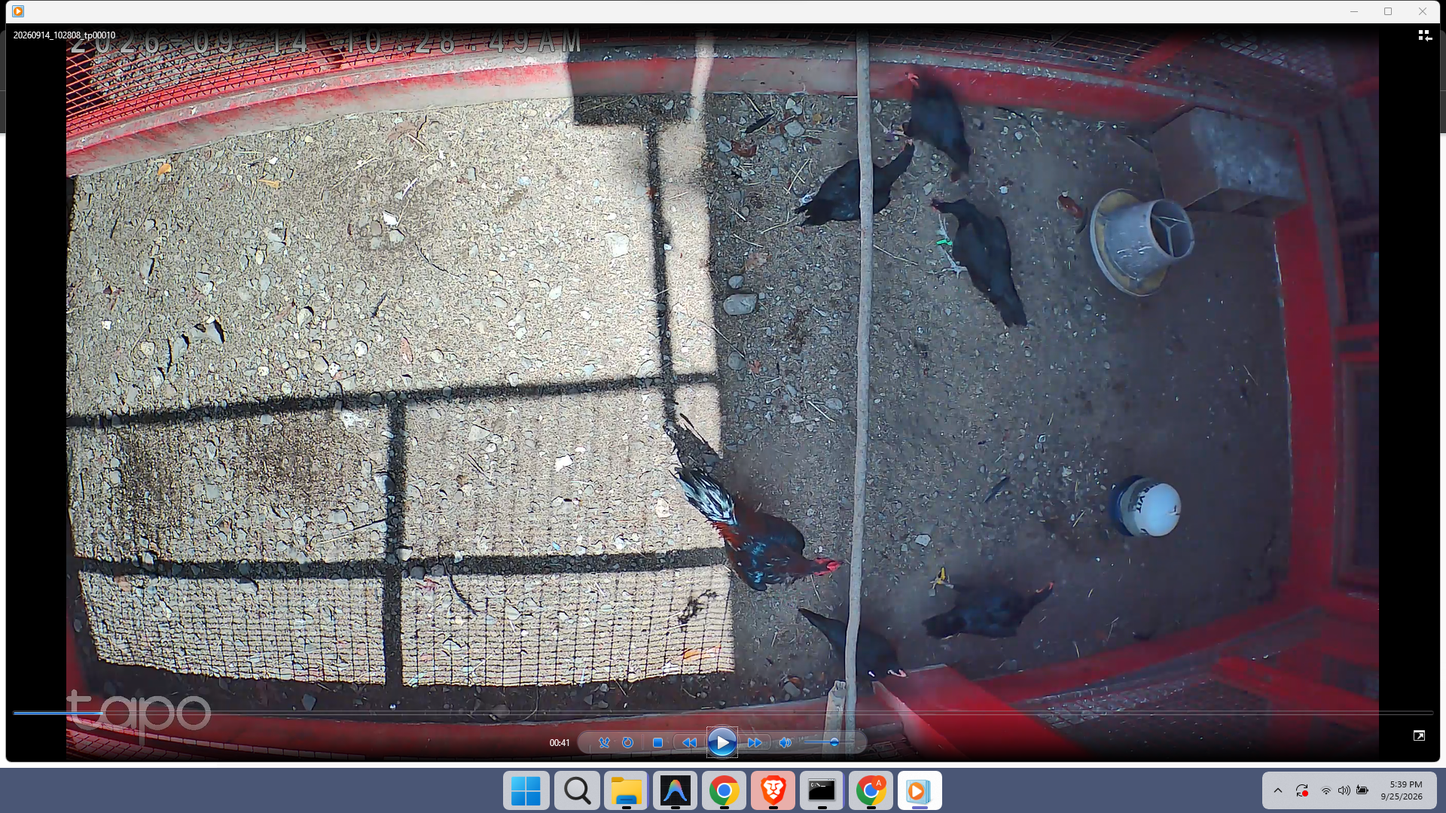Chicken: (924, 197, 1033, 330), (791, 133, 916, 228), (920, 561, 1056, 642), (876, 70, 972, 176), (795, 606, 910, 682)
Drinker: (1107, 474, 1181, 537)
Feeder: (1089, 185, 1194, 297)
Rooster: (672, 463, 844, 592)
